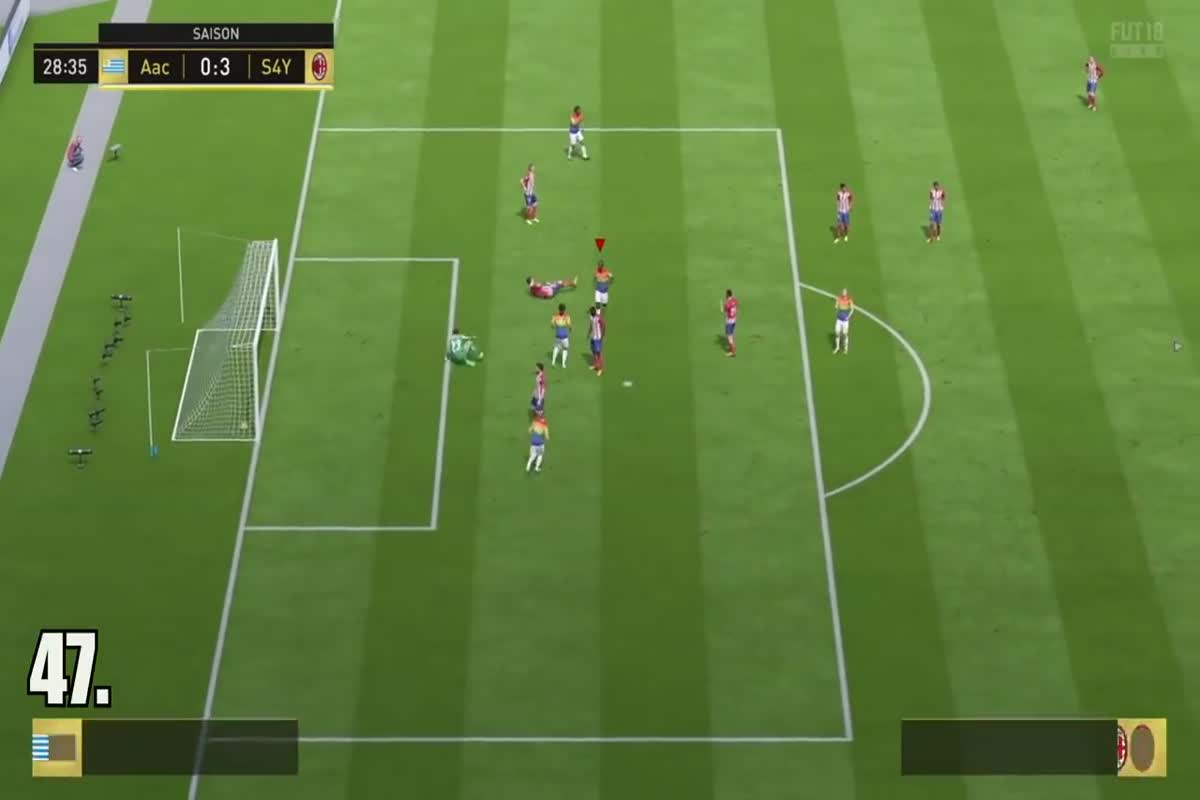ball: (232, 416, 255, 434)
